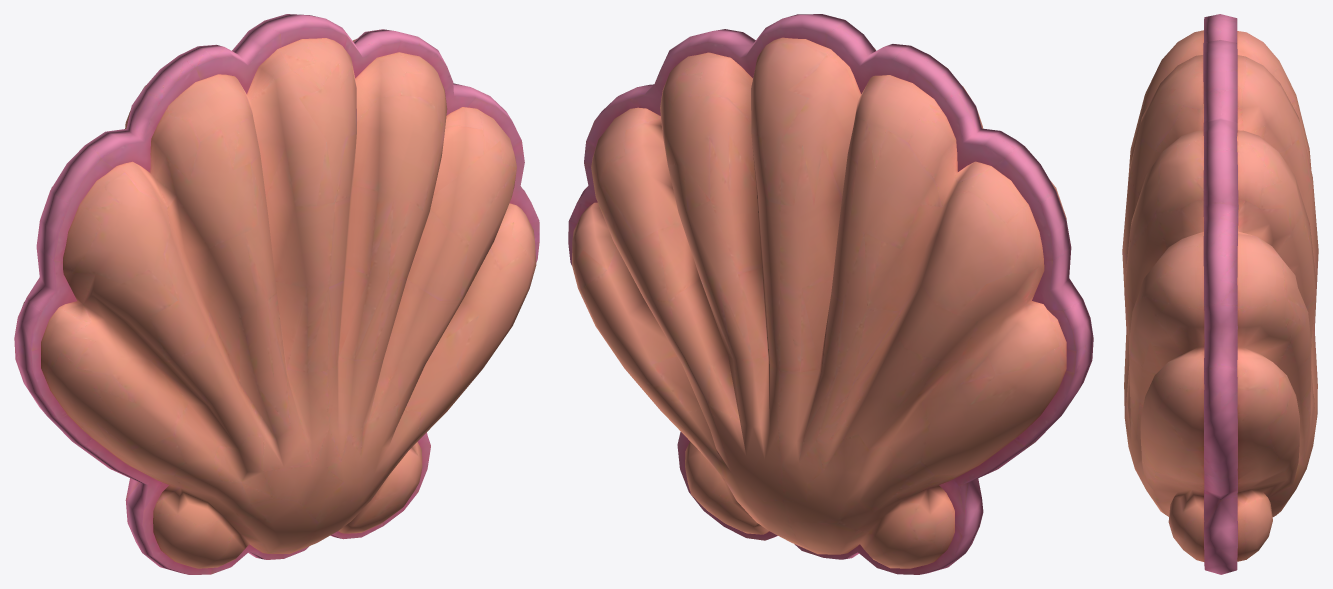
Rendered from shell.glb.
3 renders of one model, left to right at view 1: azimuth 30°, elevation 25°; view 2: azimuth 150°, elevation 25°; view 3: azimuth 270°, elevation 25°, orthographic. The views are drawn at different scales.
Visible parts, largest first — view 1: geometry_0; view 2: geometry_0; view 3: geometry_0.
Part boxes in pixels (box(x1,y1,x2,y2)): geometry_0: box(14, 14, 539, 574); geometry_0: box(568, 14, 1093, 574); geometry_0: box(1122, 14, 1318, 574).
Size of the model in its own units: 1 by 1 by 0.3614.
Materials: 1 (1 with a texture image).
